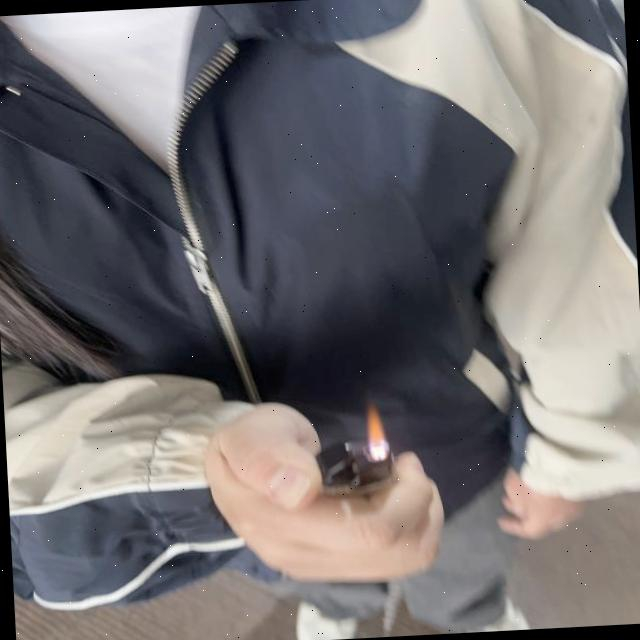fire: (364, 408, 394, 450)
